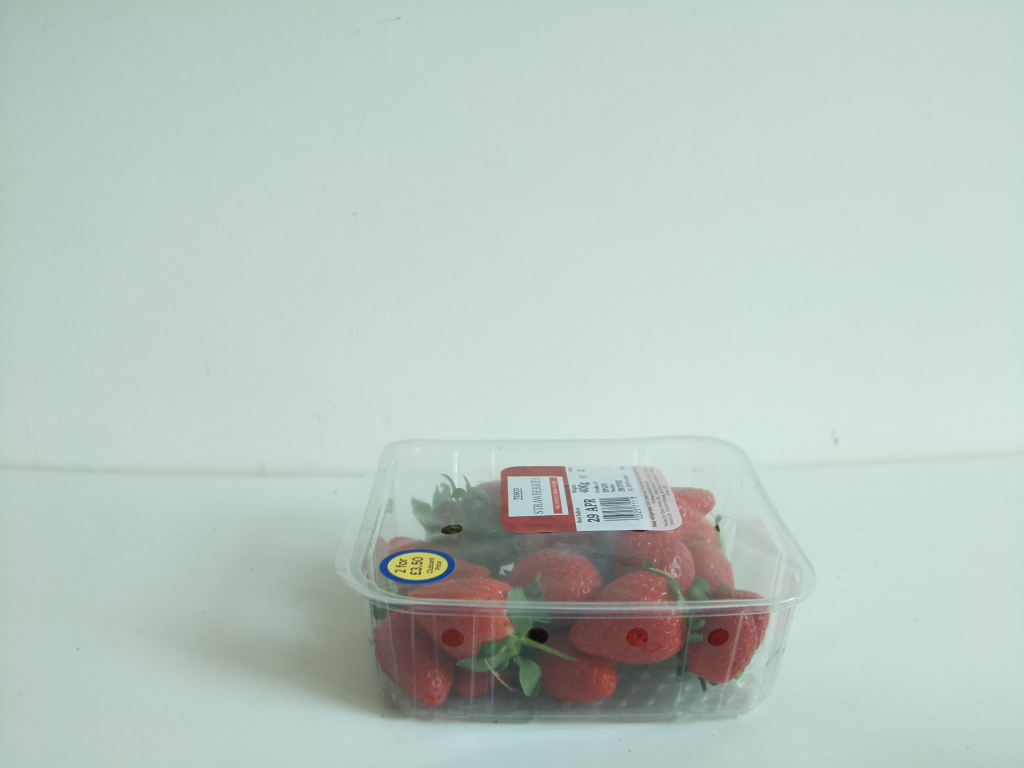soft-fruit: (338, 431, 822, 728)
